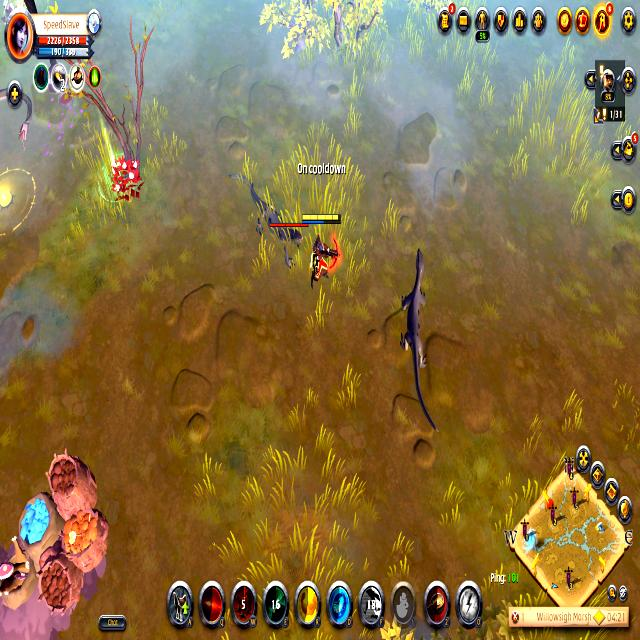hide: (102, 150, 148, 210)
ore: (397, 245, 451, 442), (225, 155, 310, 272)
red: (300, 206, 344, 294)
